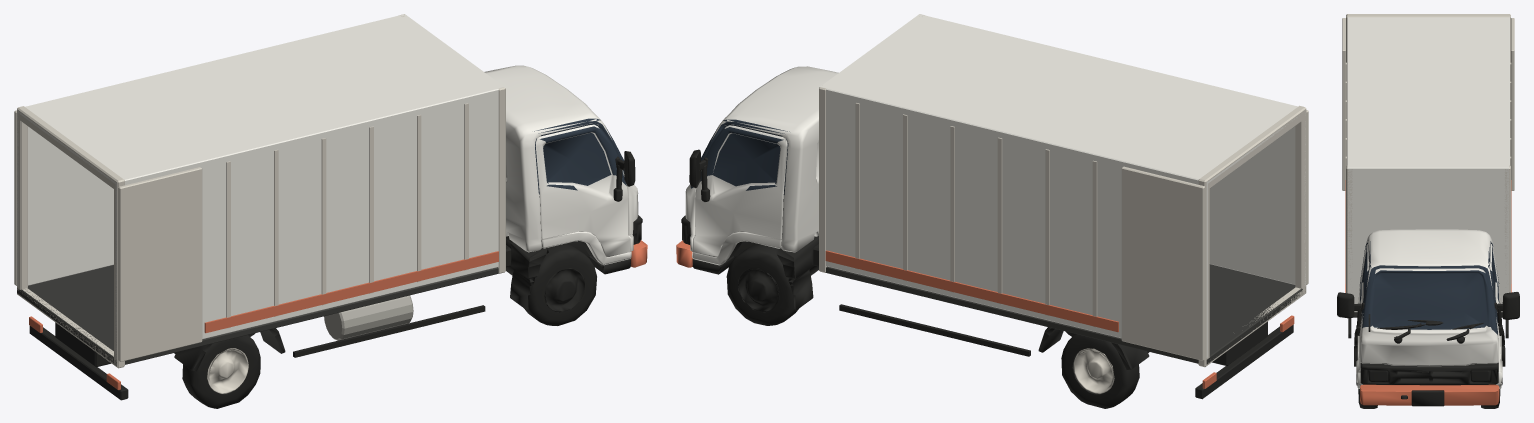
File: truck.glb
3 renders of one model, left to right at view 1: azimuth 30°, elevation 25°; view 2: azimuth 150°, elevation 25°; view 3: azimuth 270°, elevation 25°, orthographic. The views are drawn at different scales.
Parts seen in each view (by area): view 1: truck_parts, wheel_1, wheel_3; view 2: truck_parts, wheel_0, wheel_2; view 3: truck_parts.
Boxes of the visible parts, x1,y1,x2,y2 form: truck_parts: (14,14,647,400); wheel_1: (182,335,260,408); wheel_3: (524,244,596,325); truck_parts: (676,14,1308,399); wheel_0: (1061,334,1139,408); wheel_2: (726,244,798,325); truck_parts: (1337,14,1519,406).
Bounding box in the file's own units: 6.86 × 3.16 × 2.47.
